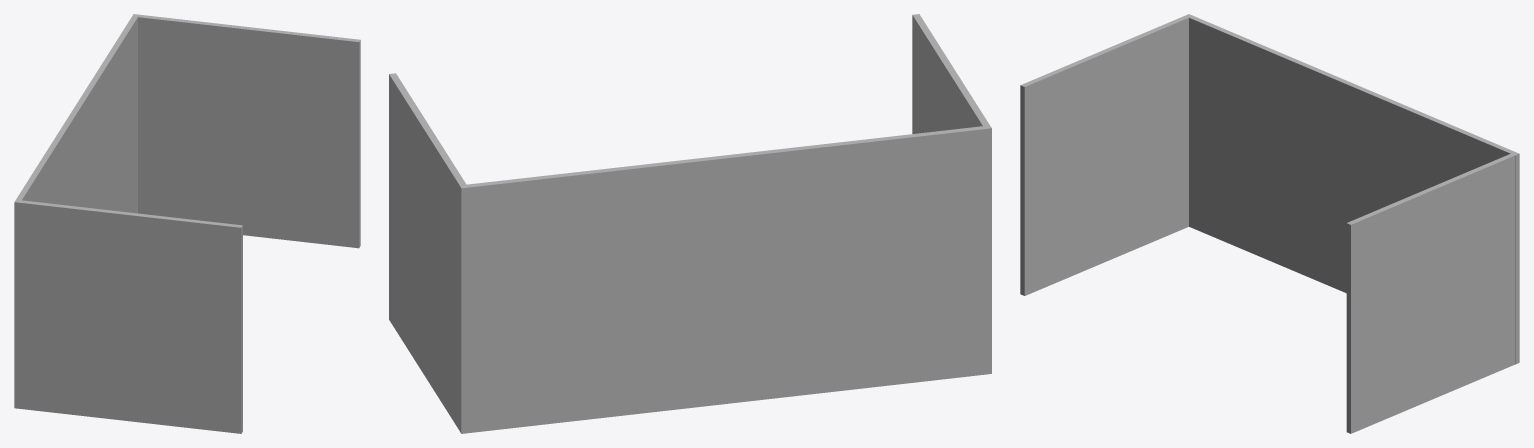
Rendered from cabinet_wall_02.glb.
3 views of the same model, side by side, from view 1: azimuth 30°, elevation 25°; view 2: azimuth 150°, elevation 25°; view 3: azimuth 270°, elevation 25° (orthographic). The views are drawn at different scales.
Visible parts, largest first — view 1: cabinet_wall_02; view 2: cabinet_wall_02; view 3: cabinet_wall_02.
Boxes of the visible parts, left/top/right/bottom form: cabinet_wall_02: left=14, top=14, right=360, bottom=433; cabinet_wall_02: left=389, top=14, right=991, bottom=433; cabinet_wall_02: left=1020, top=14, right=1519, bottom=433.
Bounding box in the file's own units: 0.8113 × 0.375 × 0.8113.
Materials: 1 (1 with a texture image).
